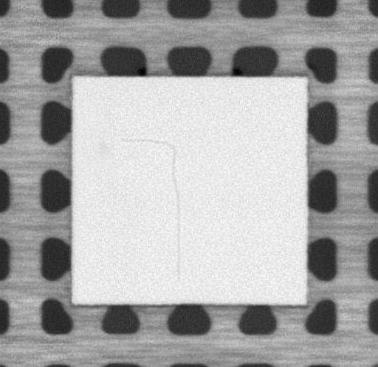DIE_CRACK: (122, 135, 183, 281)
